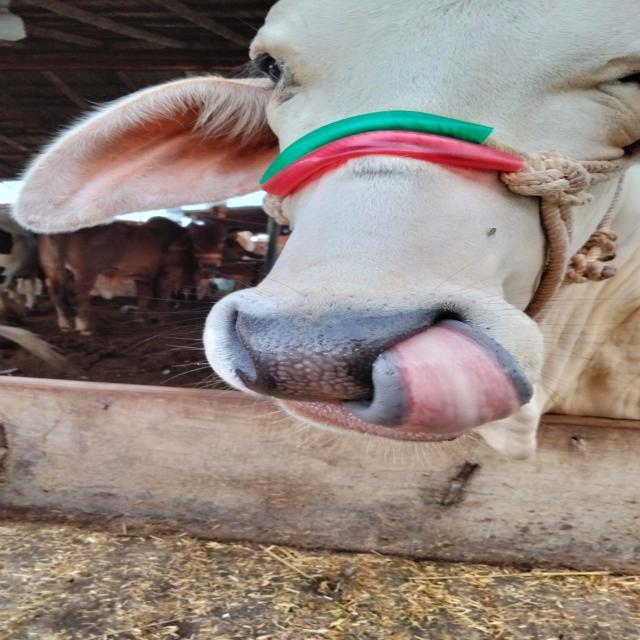muzzles: (187, 288, 496, 412)
